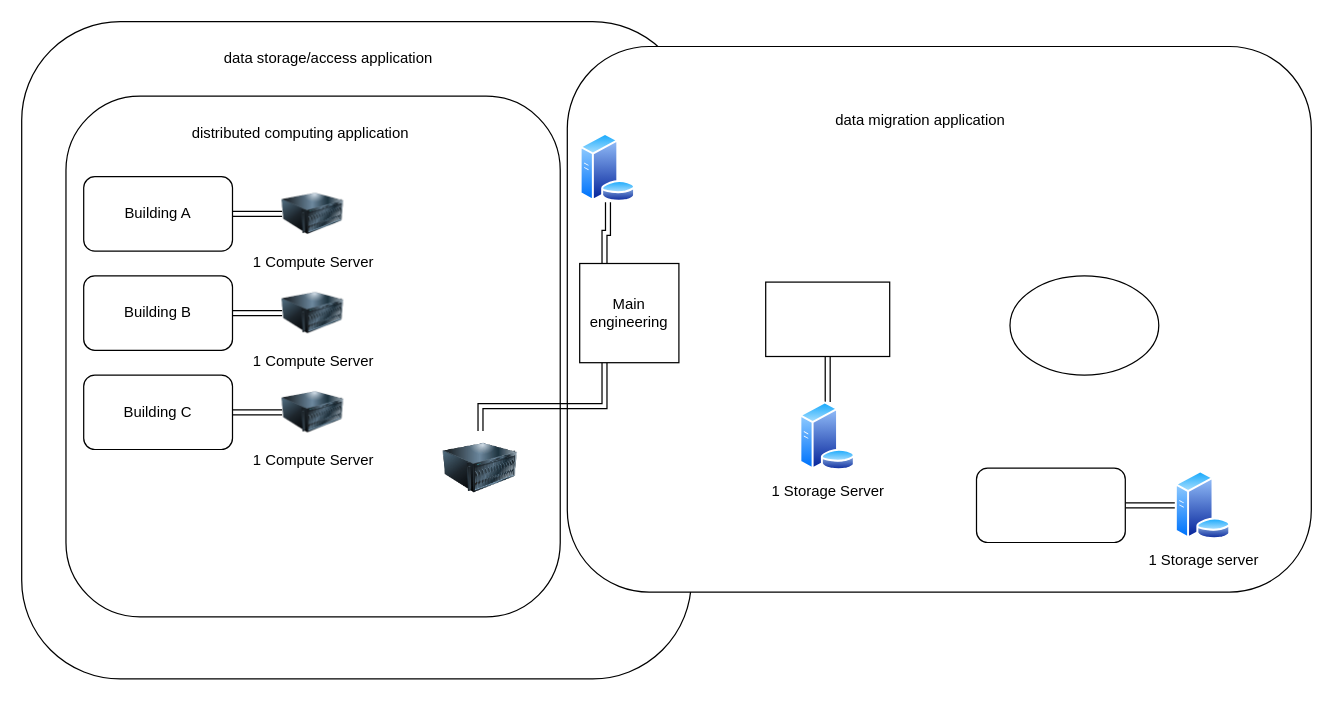
The diagram is 1333 pixels wide and 701 high, and some of its shapes have lost their labels. The box of each missing label's shape, as (x1, y1, x2, y2) in pixels:
2 Storage servers: (579, 133, 636, 202)
5 Compute Servers: (443, 430, 517, 505)
External access: (764, 281, 890, 356)
Internet: (1009, 275, 1159, 375)
Off-site data archival: (975, 467, 1125, 542)
